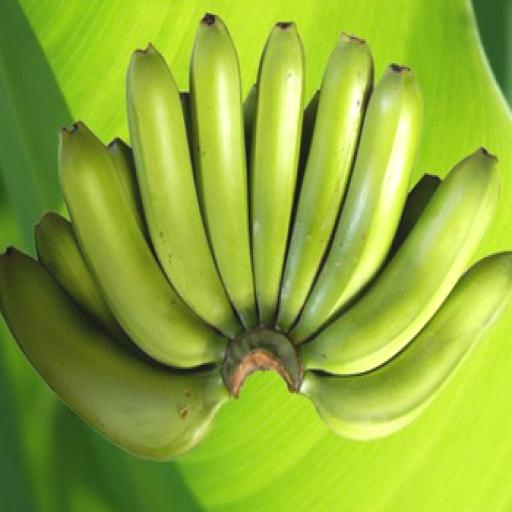banana-unripe: (0, 32, 499, 463)
